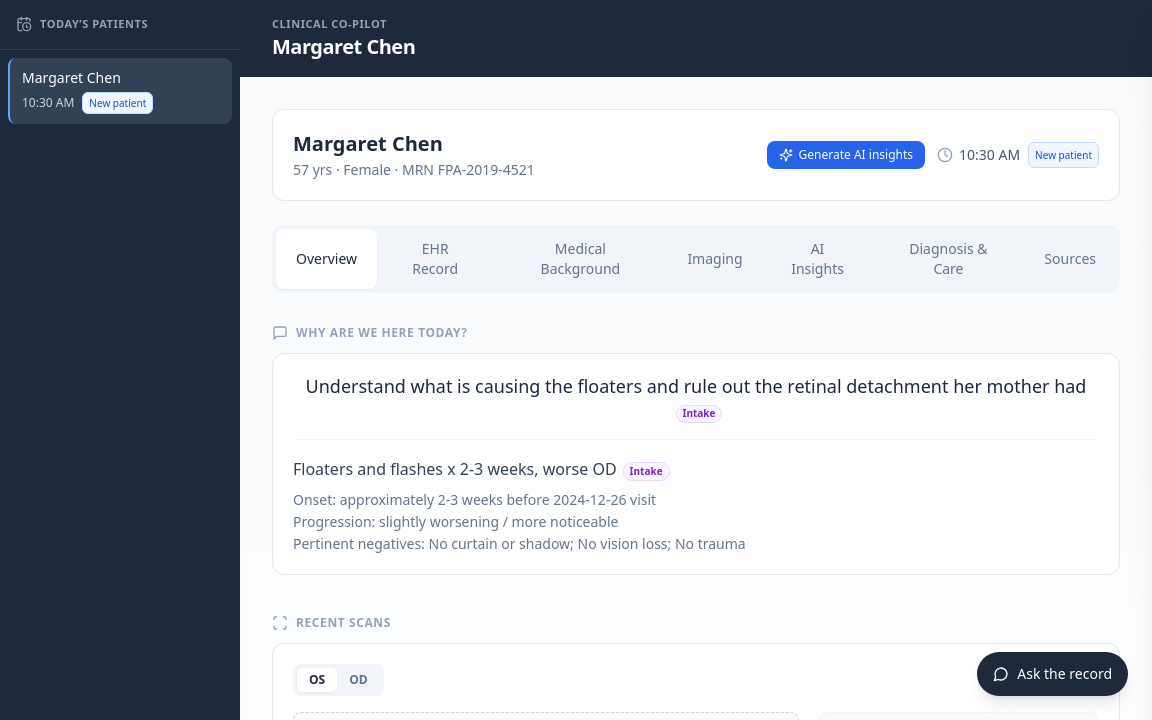
Test case: EHR Record tab › surfaces a 503 not-configured as an inline message
Click the tab "EHR Record" at (435, 258), box [377,228,493,288]
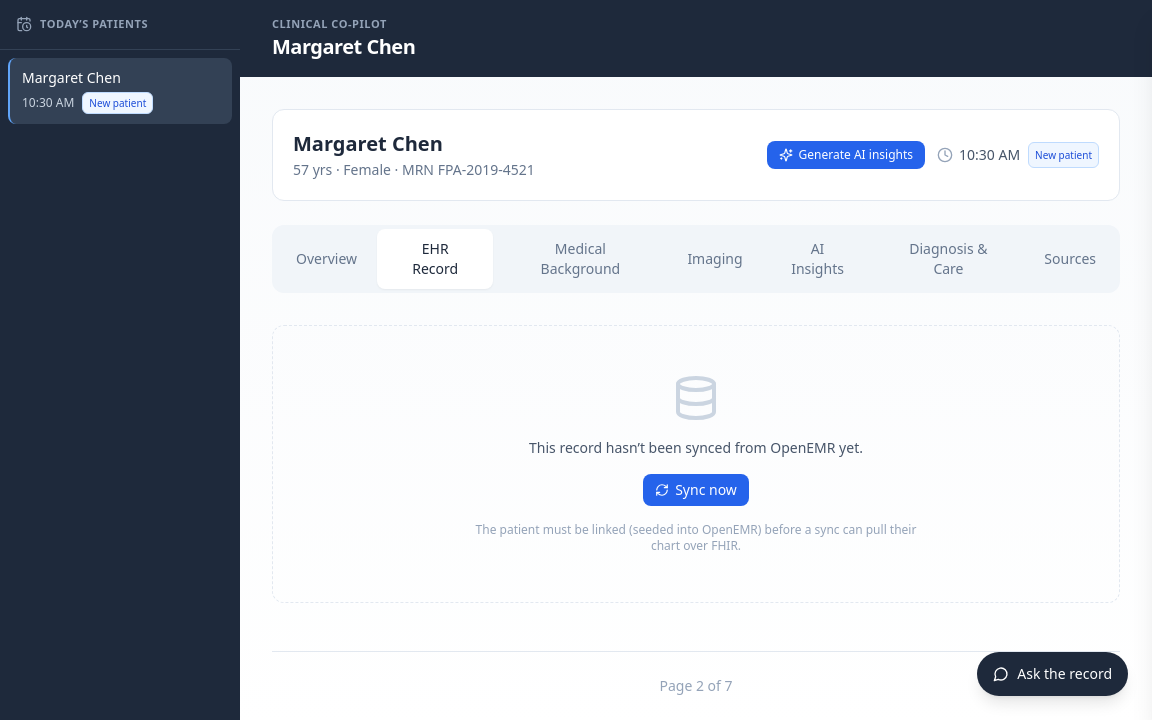
Click the button "Sync now" at (696, 490), box [643,474,749,506]
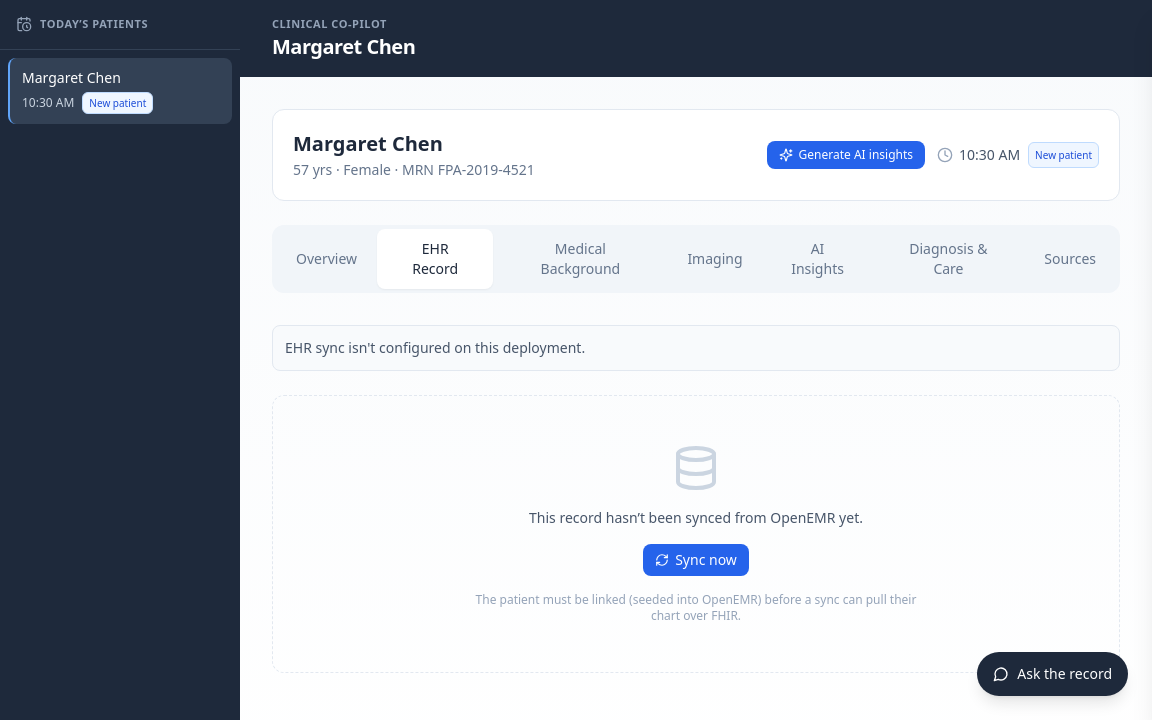
Now the text "EHR sync isn't configured on this deployment." is shown, box [272,324,1120,370]
